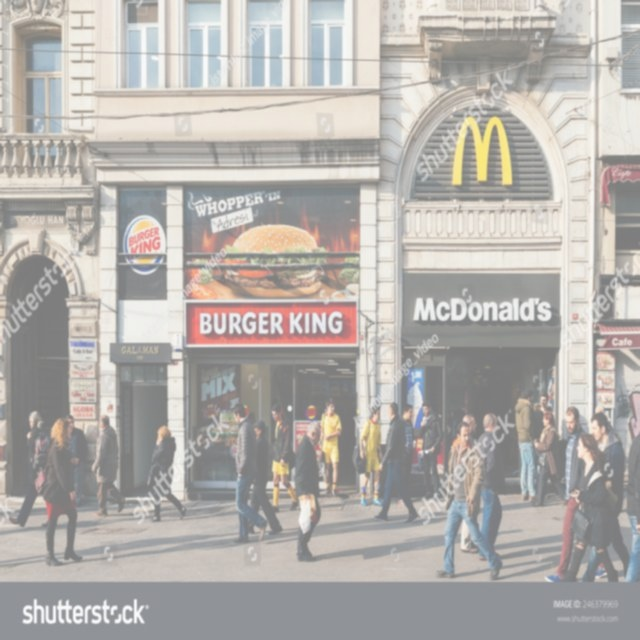pessoa: (544, 406, 610, 584), (434, 419, 503, 581), (560, 432, 620, 582), (580, 412, 631, 584), (32, 416, 84, 566), (372, 401, 420, 525), (8, 410, 52, 528), (232, 402, 268, 544), (476, 412, 508, 562), (293, 420, 323, 562), (248, 418, 284, 536), (146, 424, 188, 522), (90, 413, 126, 516), (267, 402, 299, 514), (533, 412, 569, 508), (620, 424, 640, 582), (514, 388, 538, 502), (358, 404, 384, 506), (420, 398, 445, 504), (459, 413, 478, 552), (317, 397, 342, 498), (65, 414, 88, 508), (398, 403, 417, 506), (532, 391, 554, 414), (533, 454, 541, 494), (532, 413, 544, 439), (41, 502, 52, 526), (604, 409, 613, 432), (36, 420, 44, 430), (594, 404, 604, 412)
